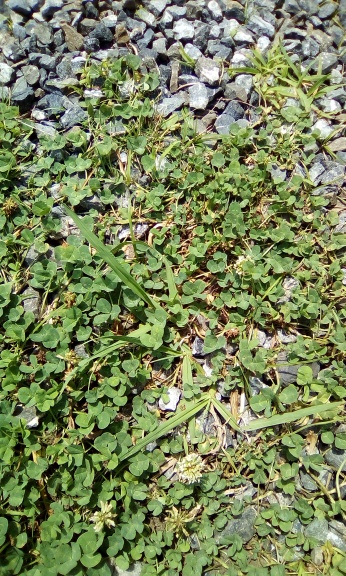4leaf: (179, 279, 208, 305)
